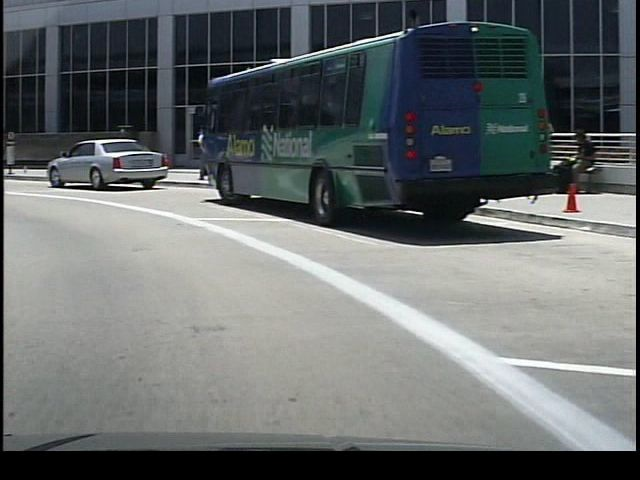person: (550, 126, 593, 195)
